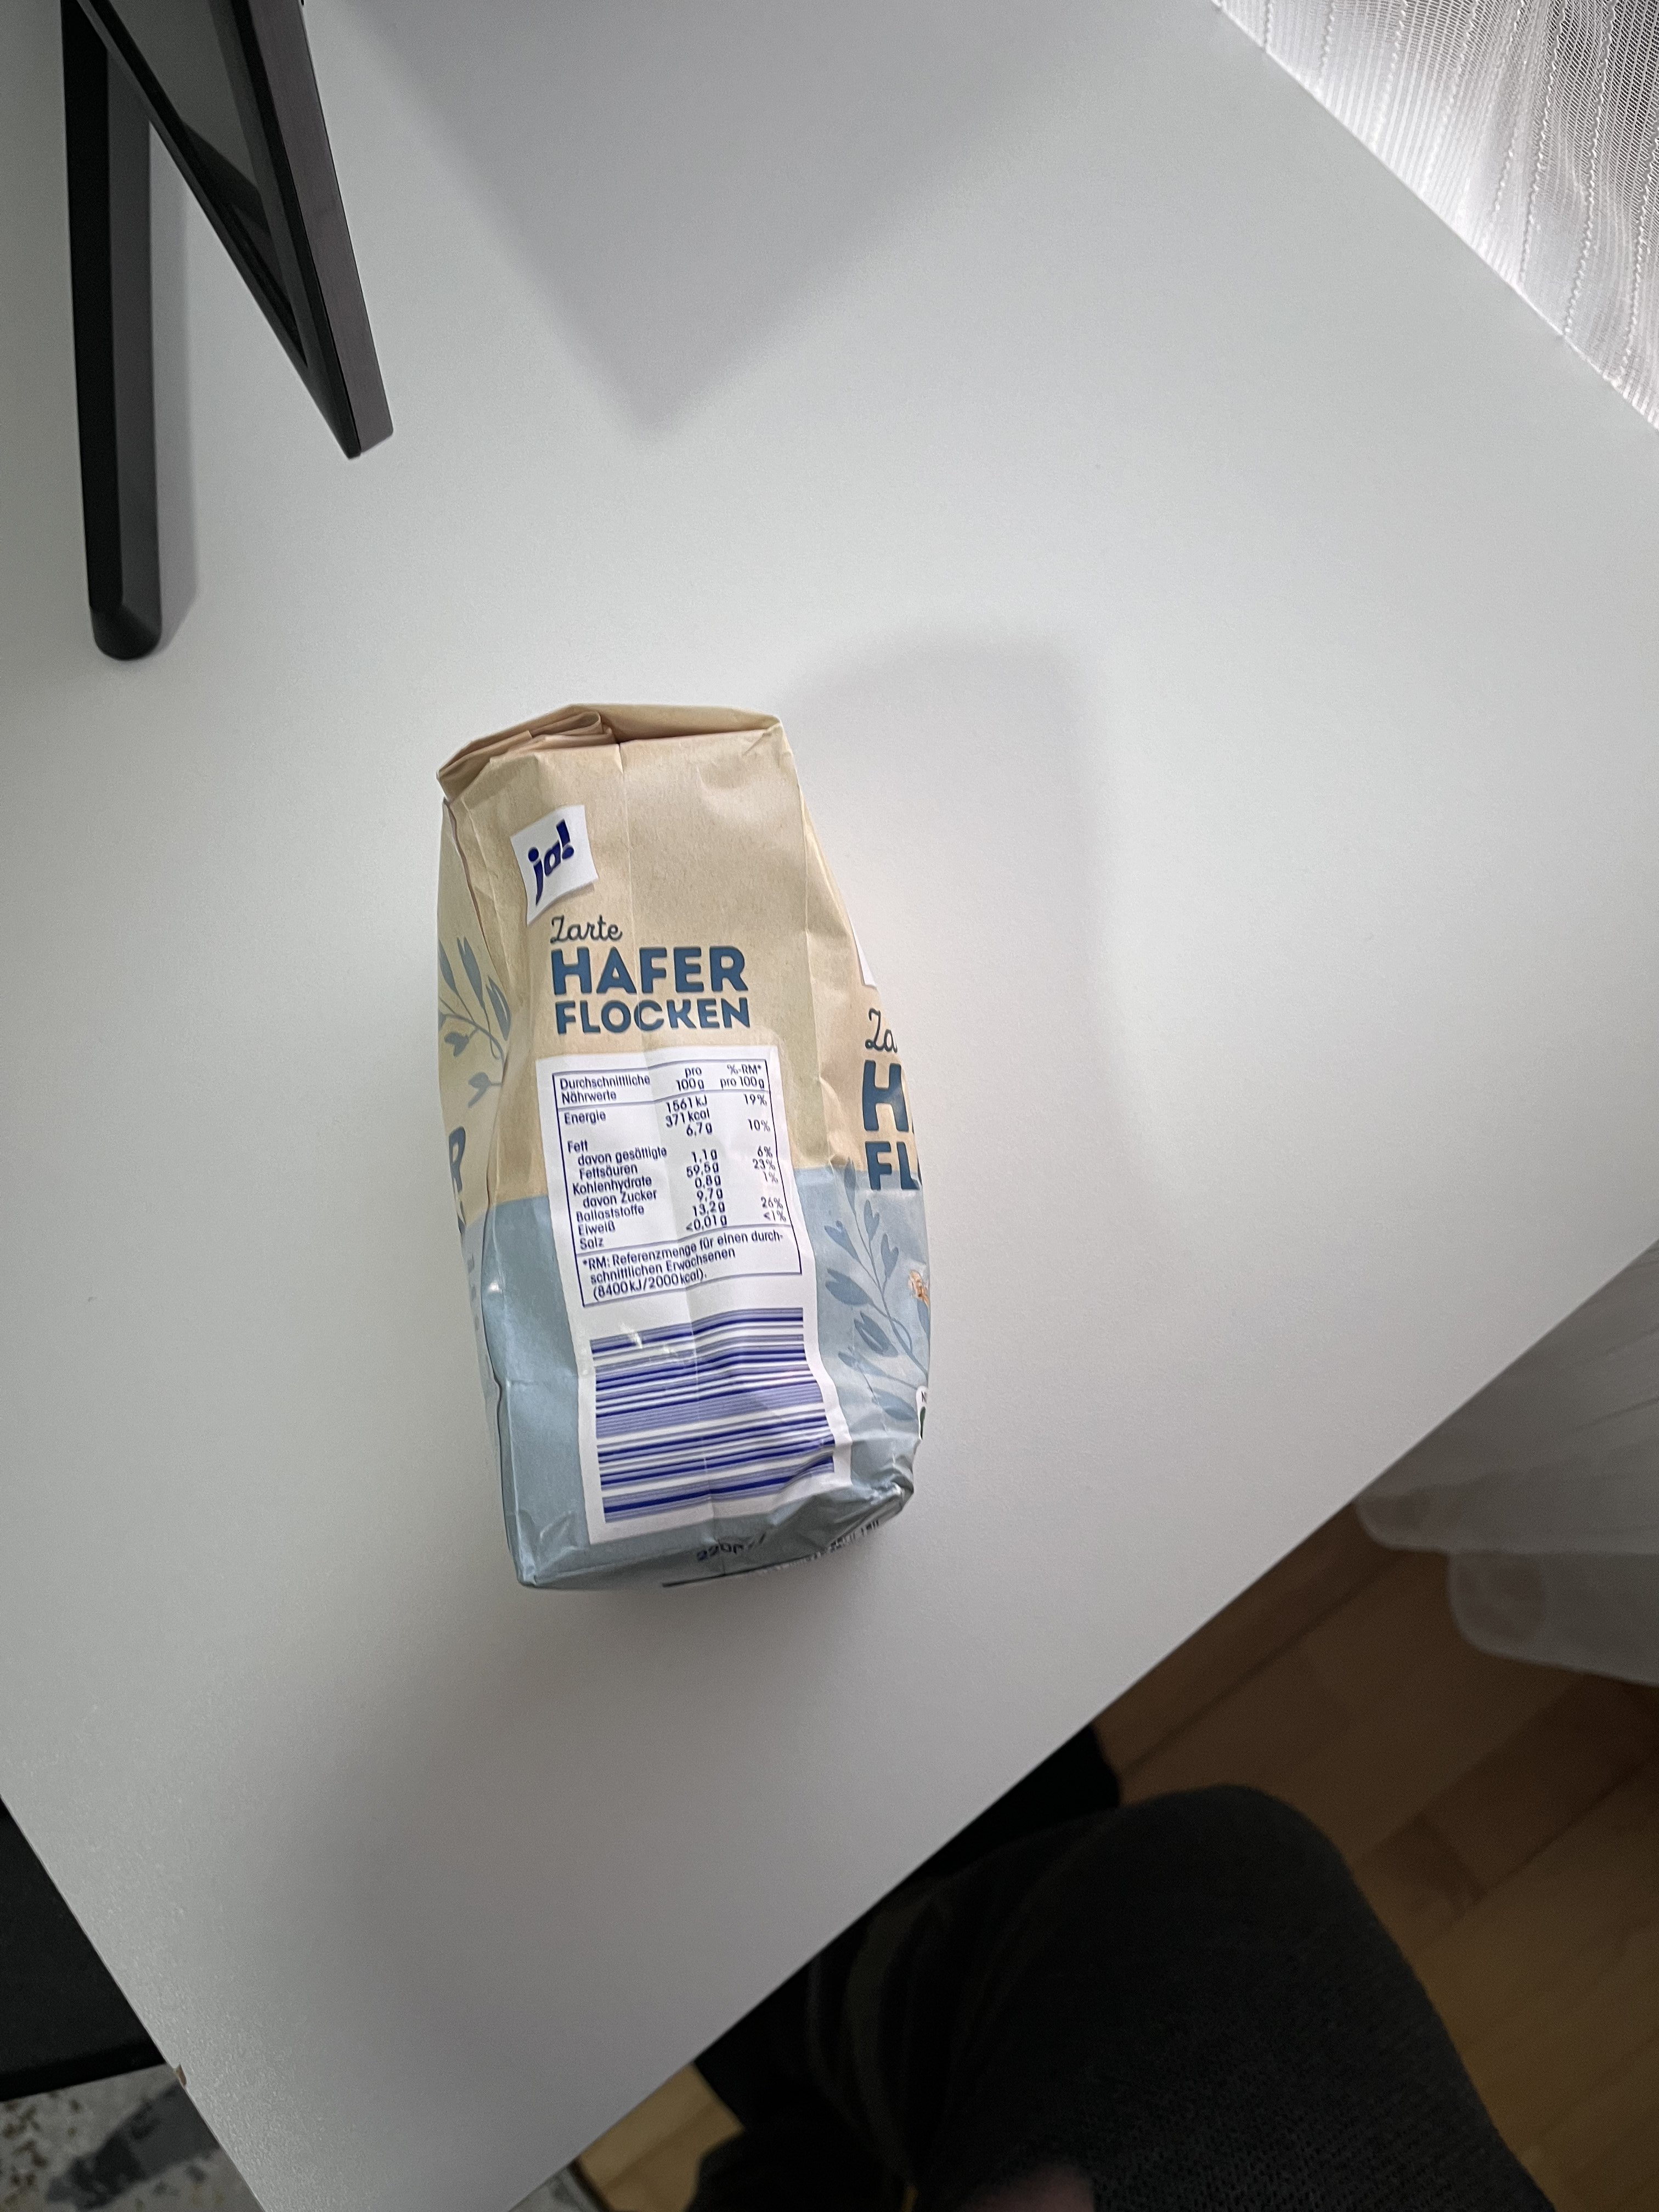haferflocken_ja: (436, 700, 932, 1583)
